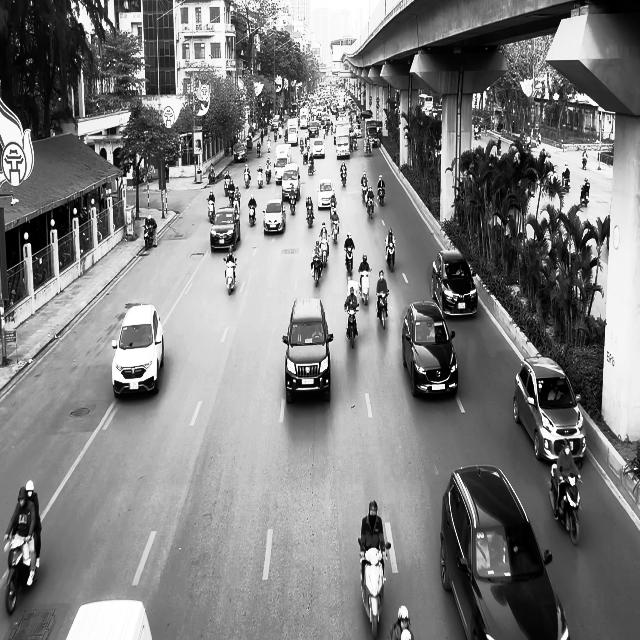car: (440, 464, 570, 639), (513, 355, 587, 468), (282, 297, 334, 403), (402, 300, 458, 398), (111, 302, 164, 398), (430, 249, 478, 318), (210, 207, 240, 252), (262, 199, 286, 234), (316, 178, 336, 209), (234, 143, 247, 162)
motorbike: (358, 536, 390, 638), (4, 528, 40, 615), (548, 463, 582, 546), (344, 304, 359, 348), (223, 257, 237, 295), (376, 290, 389, 329), (143, 216, 157, 250), (359, 268, 371, 304), (311, 255, 322, 287), (385, 239, 395, 271), (319, 240, 329, 268), (344, 246, 354, 274), (330, 217, 340, 244), (305, 204, 314, 227), (580, 184, 589, 207), (207, 198, 215, 223), (248, 204, 256, 227), (289, 192, 297, 215), (243, 170, 250, 188), (341, 168, 346, 186)
